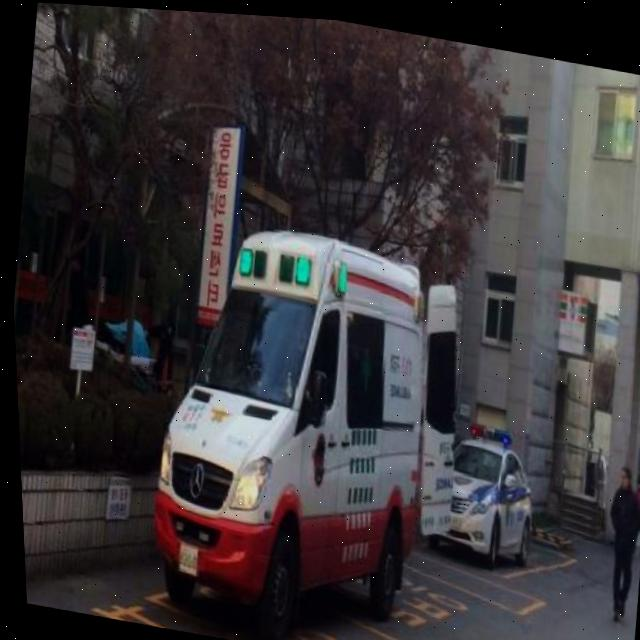emergency: (123, 201, 484, 640), (413, 408, 543, 568)
